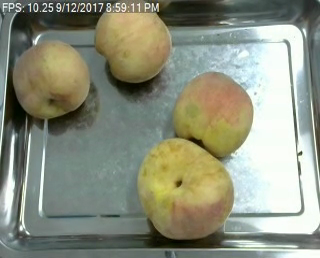Peach: (136, 136, 235, 239), (173, 71, 254, 158), (94, 1, 171, 84), (12, 38, 89, 120)
